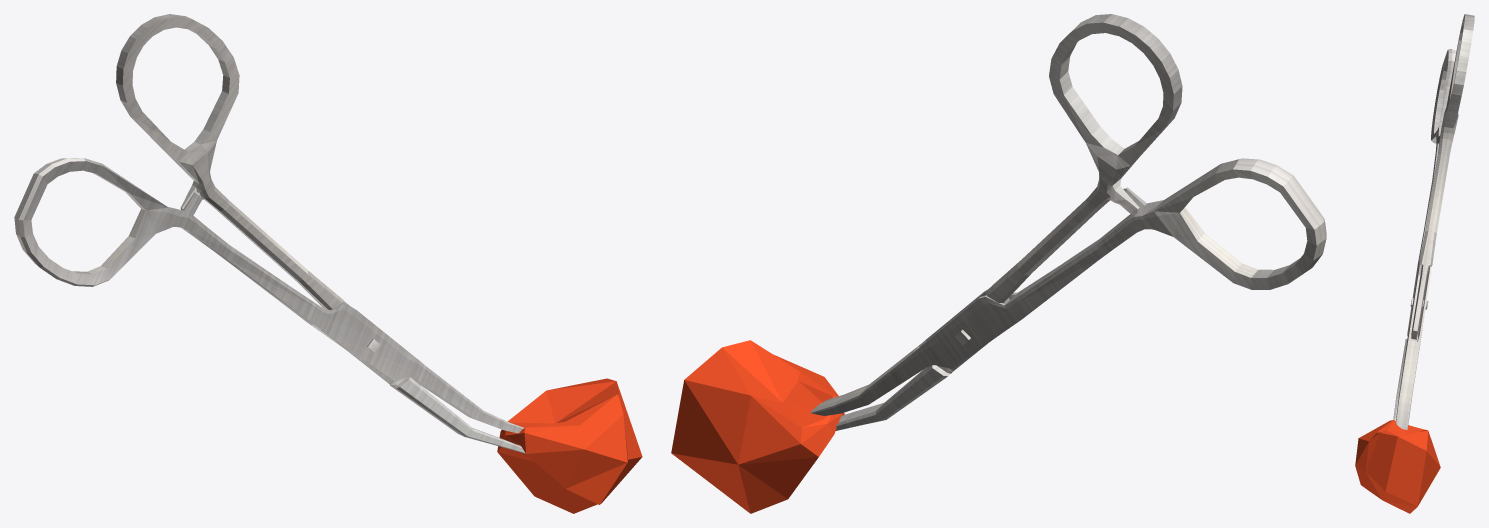
File: Swab.obj
3 renders of one model, left to right at view 1: azimuth 30°, elevation 25°; view 2: azimuth 150°, elevation 25°; view 3: azimuth 270°, elevation 25°, orthographic. The views are drawn at different scales.
Parts seen in each view (by area): view 1: Swab; view 2: Swab; view 3: Swab.
Part boxes in pixels (x1,y1,x2,y2): Swab: (14, 14, 642, 513); Swab: (671, 14, 1326, 513); Swab: (1355, 14, 1474, 513).
Size of the model in its own units: 0.1902 by 0.1701 by 0.0491.
1 material, 1 textured.
